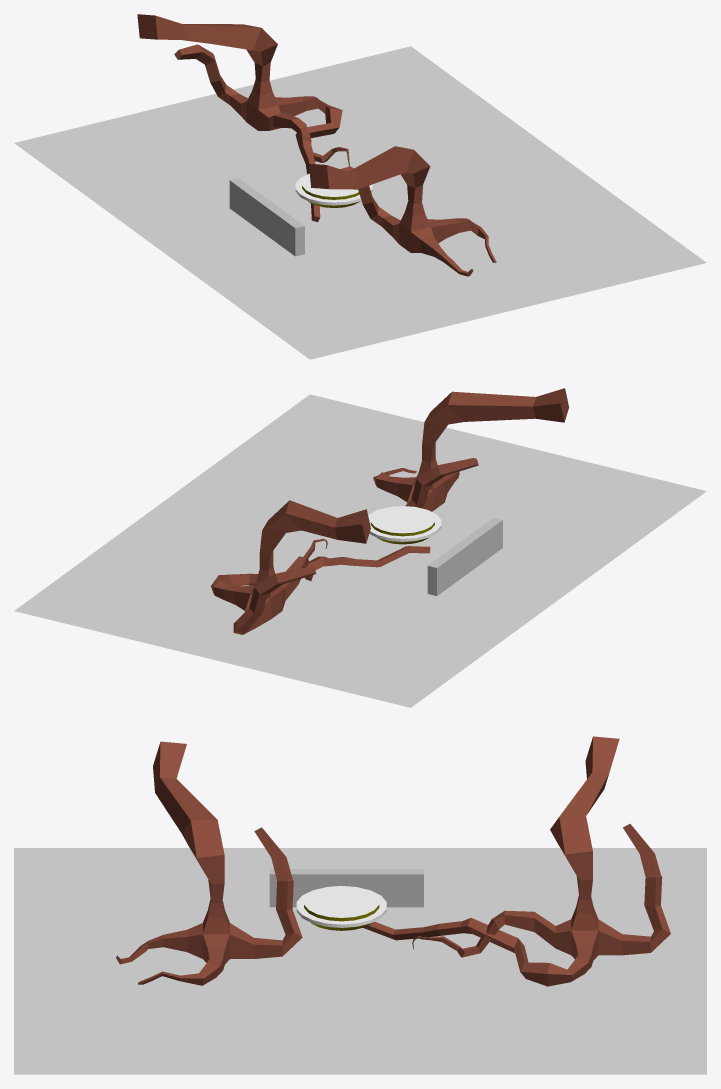
The model's file is Stage_ST_001_020523.fbx.
3 views of the same model, one above another, from view 1: azimuth 30°, elevation 25°; view 2: azimuth 150°, elevation 25°; view 3: azimuth 270°, elevation 25° (orthographic). The views are drawn at different scales.
Visible parts, largest first — view 1: Floor, Roots, Center_Bottom_WAll, Center_SEcond_Floor; view 2: Floor, Roots, Center_Bottom_WAll, Center_SEcond_Floor; view 3: Floor, Roots, Center_Bottom_WAll, Center_SEcond_Floor.
Part boxes in pixels (box(x1,y1,x2,y2)): Floor: box(14, 46, 706, 359); Roots: box(137, 14, 496, 276); Center_Bottom_WAll: box(229, 178, 304, 256); Center_SEcond_Floor: box(295, 173, 372, 207); Floor: box(14, 394, 706, 707); Roots: box(211, 388, 568, 634); Center_Bottom_WAll: box(427, 517, 502, 595); Center_SEcond_Floor: box(368, 506, 441, 544); Floor: box(14, 848, 706, 1074); Roots: box(116, 736, 670, 986); Center_Bottom_WAll: box(269, 869, 423, 907); Center_SEcond_Floor: box(296, 886, 386, 930).
Size of the model in its own units: 39.4 by 13.53 by 50.91.
